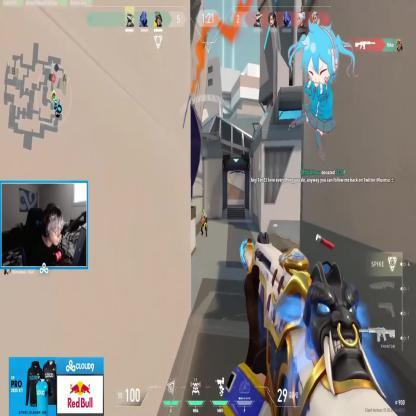enemy: (200, 208, 208, 235)
enemy_head: (203, 209, 205, 214)
